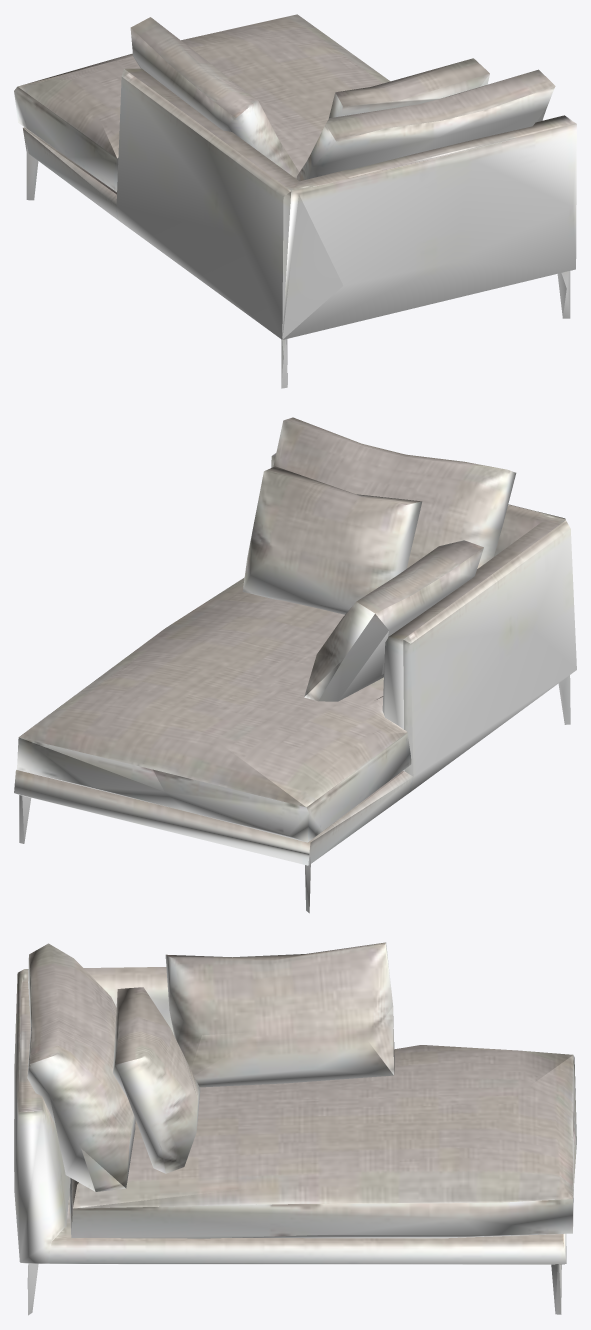
Rendered from M_Sofa0003.obj.
The picture shows the model from 3 angles, top to bottom: view 1: azimuth 30°, elevation 25°; view 2: azimuth 150°, elevation 25°; view 3: azimuth 270°, elevation 25°; orthographic projection. The views are drawn at different scales.
Size of the model in its own units: 0.902 by 0.713 by 1.43.
Materials: 1 (1 with a texture image).
